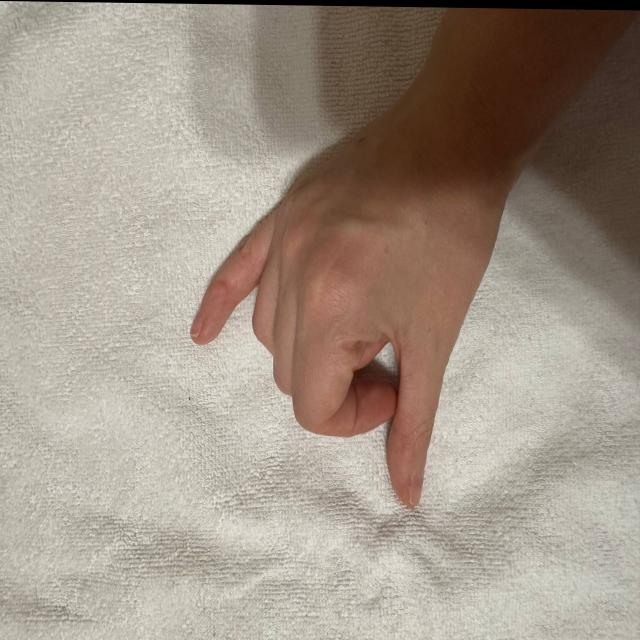u: (173, 58, 515, 521)
